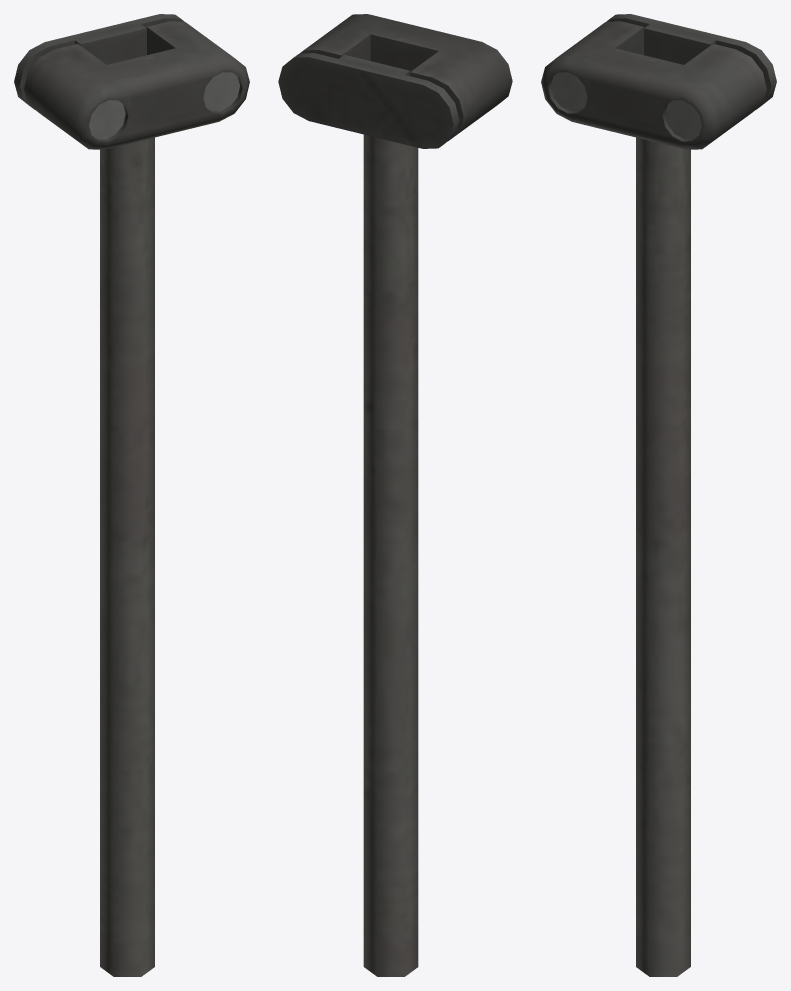
Rendered from cable_straight_medium.gltf.
3 renders of one model, left to right at view 1: azimuth 30°, elevation 25°; view 2: azimuth 150°, elevation 25°; view 3: azimuth 330°, elevation 25°, orthographic.
Visible parts, largest first — view 1: cable_straight_medium; view 2: cable_straight_medium; view 3: cable_straight_medium.
Part boxes in pixels (<box>): cable_straight_medium: <box>14,14,249,976</box>; cable_straight_medium: <box>278,14,512,976</box>; cable_straight_medium: <box>541,14,776,976</box>.
Size of the model in its own units: 0.0416 by 0.2073 by 0.0259.
1 material, 1 textured.
